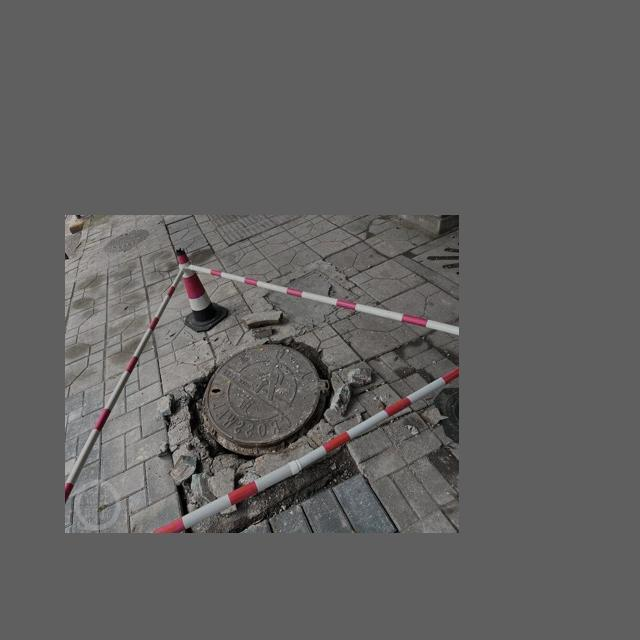circle: (170, 324, 362, 522)
